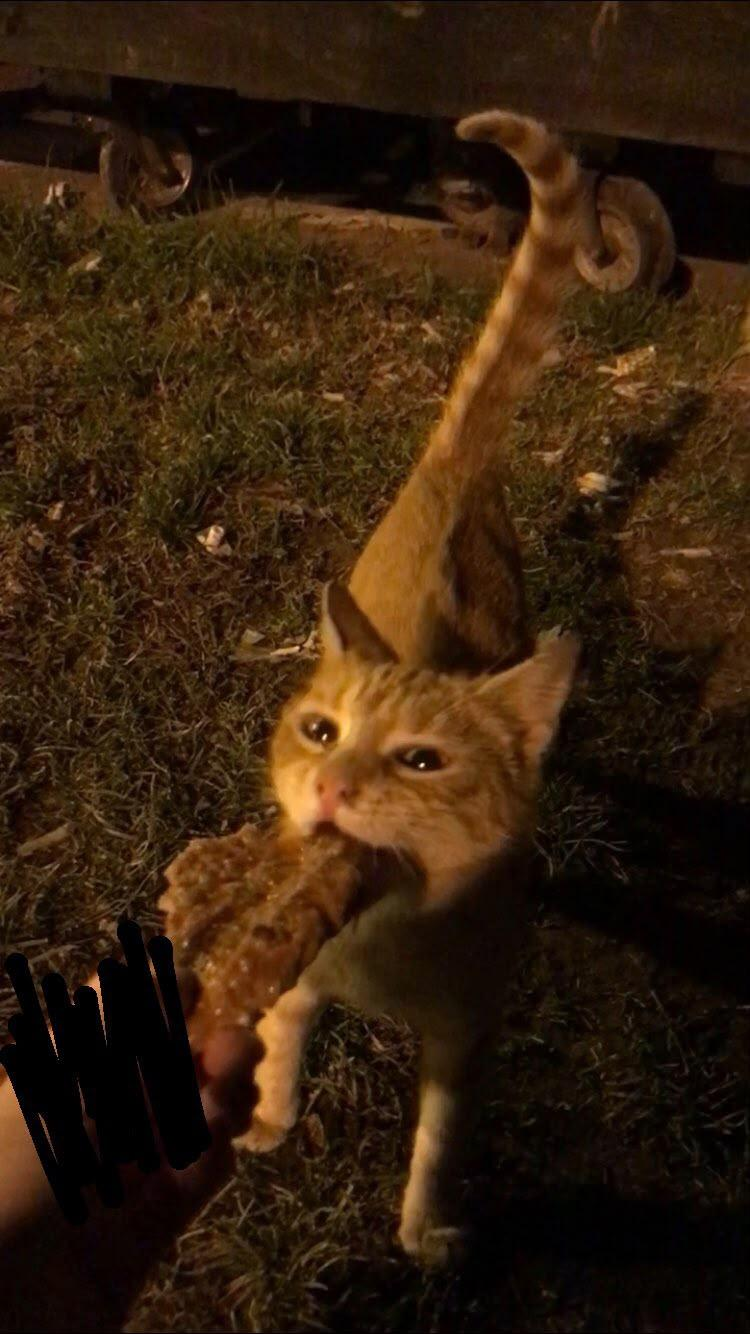macka: (245, 106, 618, 1261)
